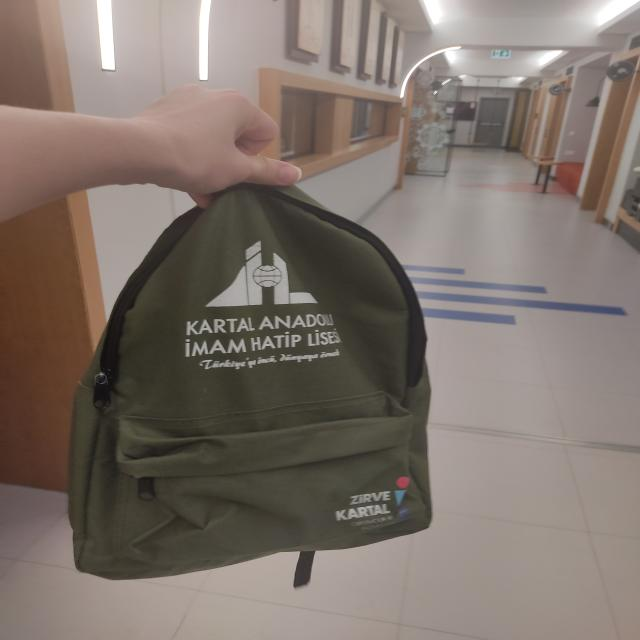bag: (65, 190, 435, 582)
